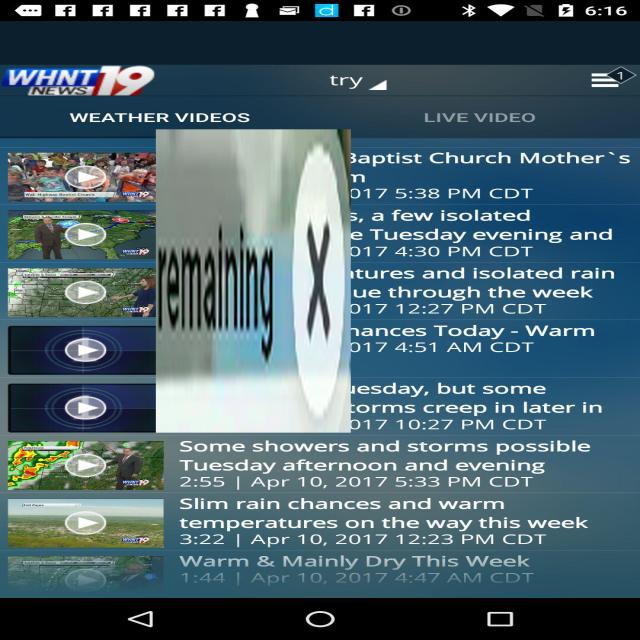misdirection: (156, 129, 351, 433)
